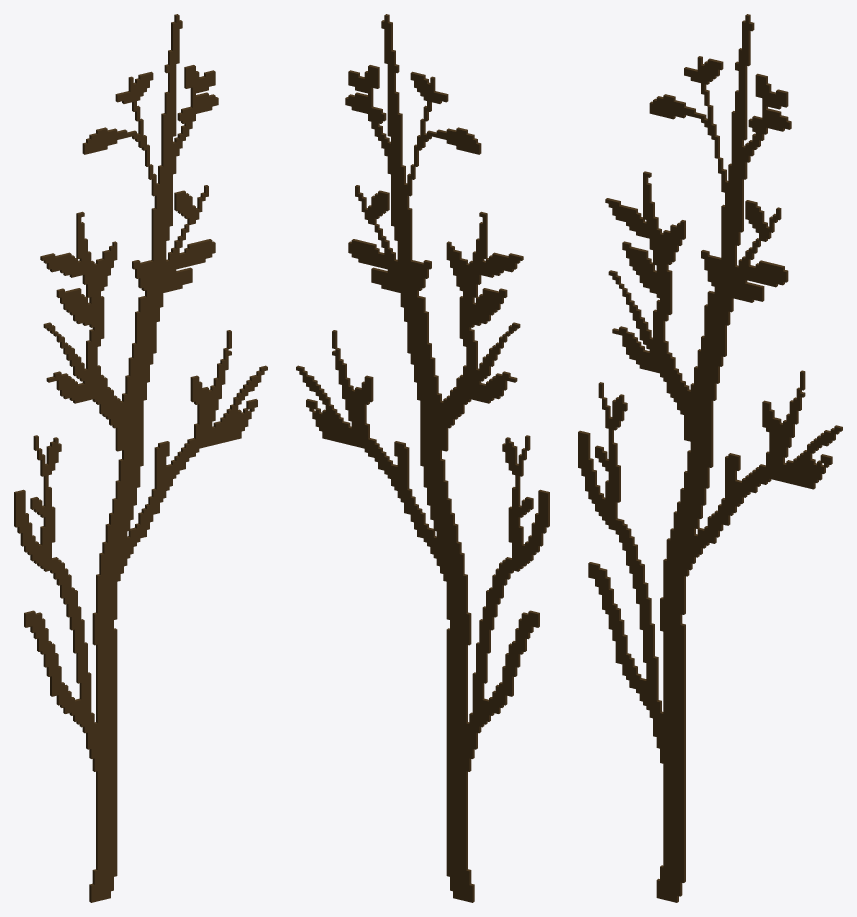
The model's file is forest1.1-63.obj.
3 views of the same model, side by side, from view 1: azimuth 30°, elevation 25°; view 2: azimuth 150°, elevation 25°; view 3: azimuth 330°, elevation 25° (orthographic). The views are drawn at different scales.
Size of the model in its own units: 7.7 by 25.3 by 0.1.
Materials: 1 (1 with a texture image).
